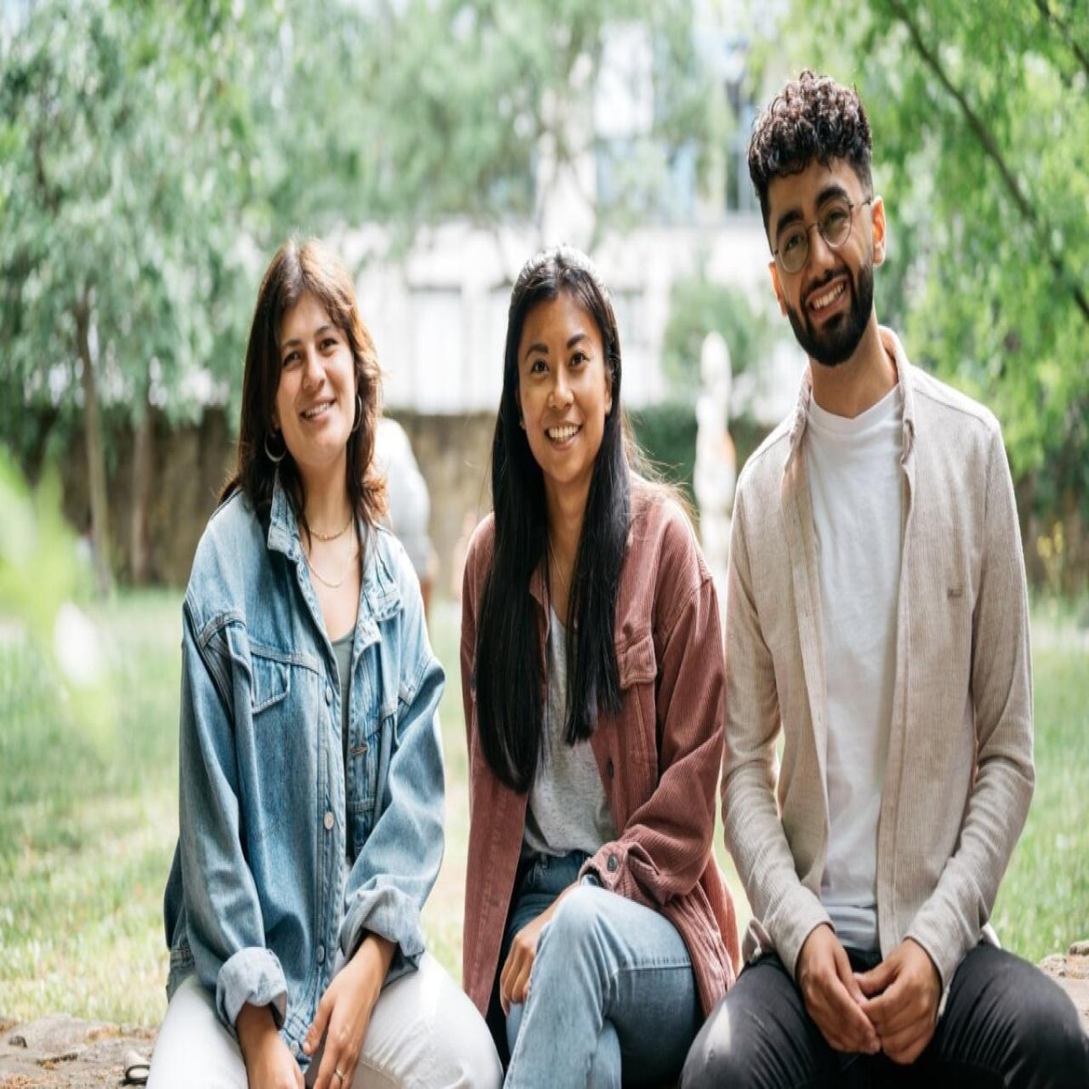NO_Safety_Vest: (771, 404, 989, 928), (200, 506, 417, 995), (481, 511, 699, 956)
Person: (720, 65, 1080, 1089), (124, 221, 489, 1089), (450, 226, 736, 1089)
